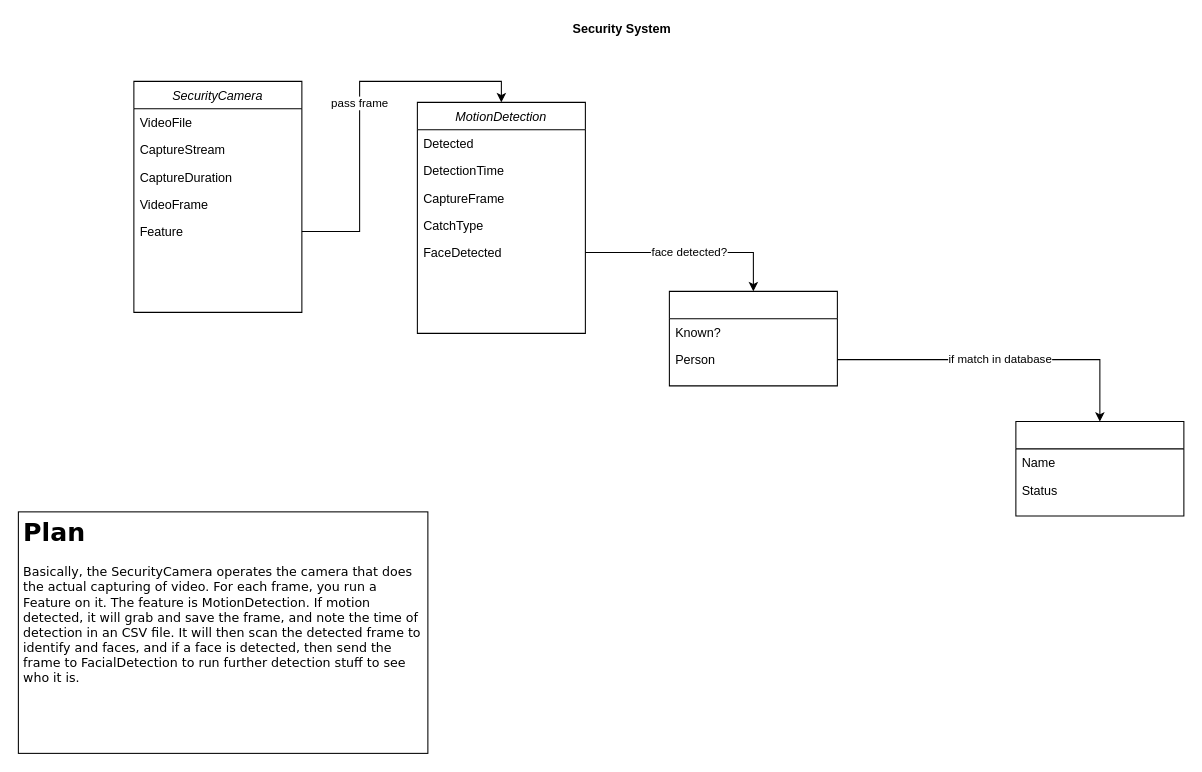
The diagram is 1202 pixels wide and 772 high, and some of its shapes have lost their labels. The box of each missing label's shape, as (x1, y1, x2, y2) in pixels:
Face: (1015, 421, 1184, 516)
FacialDetection: (668, 290, 837, 386)
